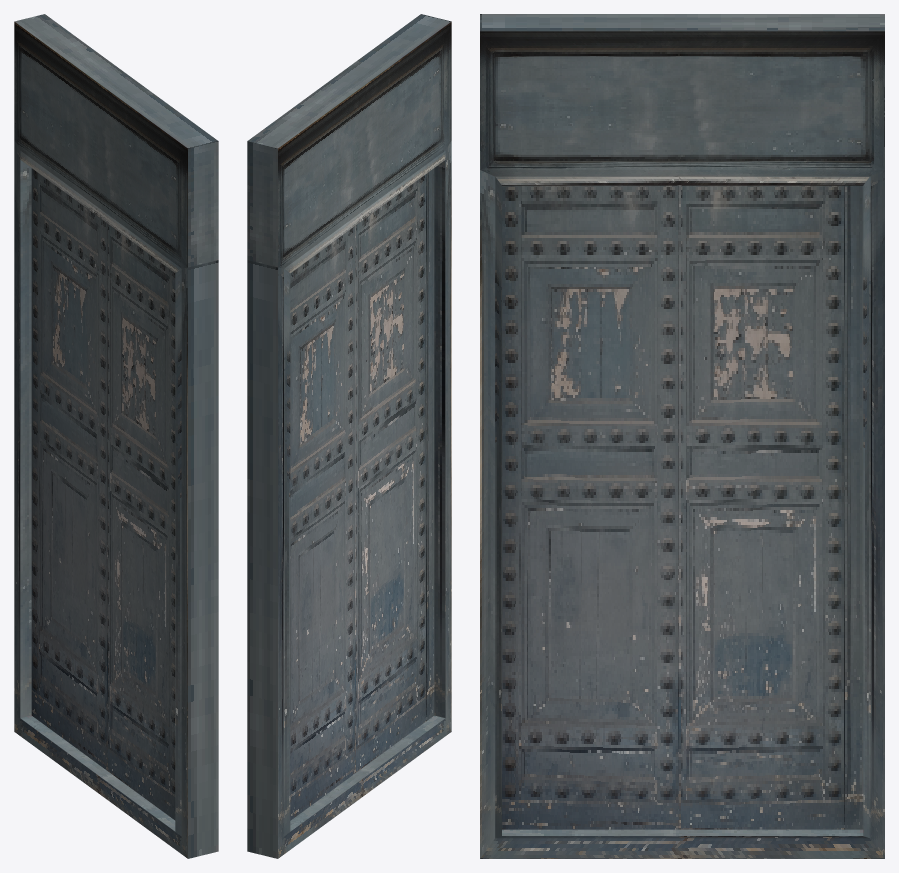
Rendered from olddoor.glb.
The picture shows the model from 3 angles, left to right: view 1: azimuth 30°, elevation 25°; view 2: azimuth 150°, elevation 25°; view 3: azimuth 270°, elevation 25°; orthographic projection. The views are drawn at different scales.
Parts seen in each view (by area): view 1: Frame, Door.001, Door; view 2: Frame, Door, Door.001; view 3: Door.001, Door, Frame.
Part boxes in pixels (<box>): Frame: <box>14,14,218,858</box>; Door.001: <box>31,168,108,771</box>; Door: <box>109,225,175,820</box>; Frame: <box>247,14,451,858</box>; Door: <box>356,168,434,771</box>; Door.001: <box>290,225,356,820</box>; Door.001: <box>682,185,863,829</box>; Door: <box>502,185,682,829</box>; Frame: <box>480,14,884,858</box>.
Size of the model in its own units: 0.2469 by 4.51 by 2.
2 materials, 2 textured.
